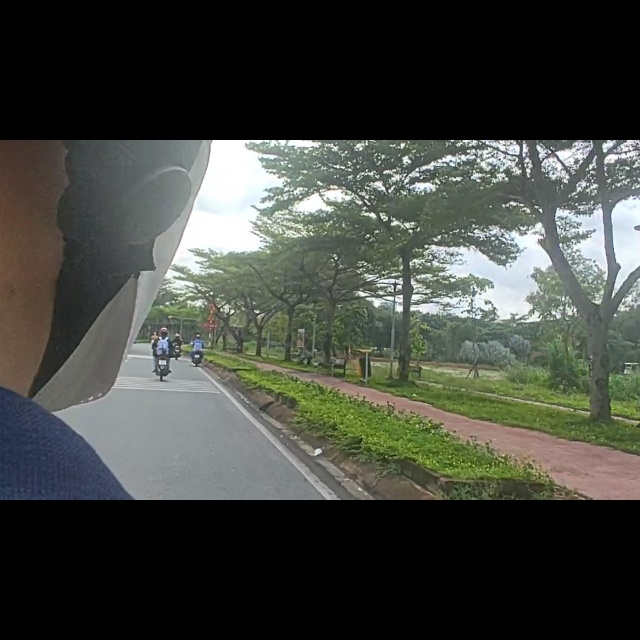bien_nguy_hiem: (205, 307, 217, 322)
